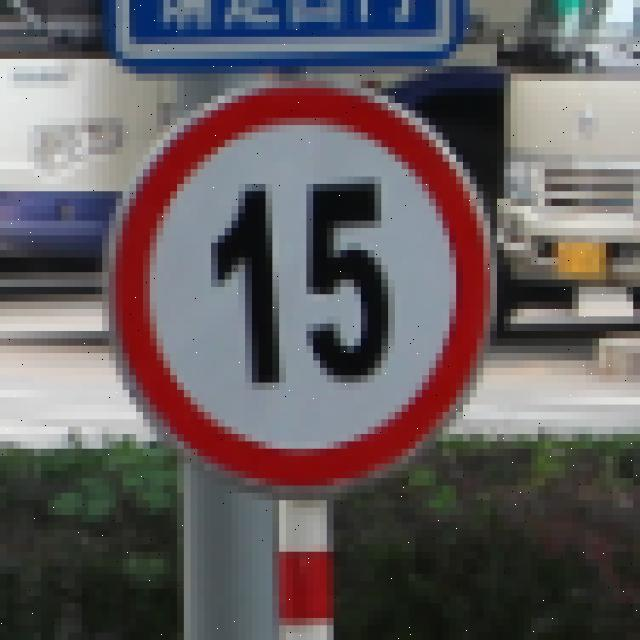speed limit 20: (109, 81, 489, 489)
